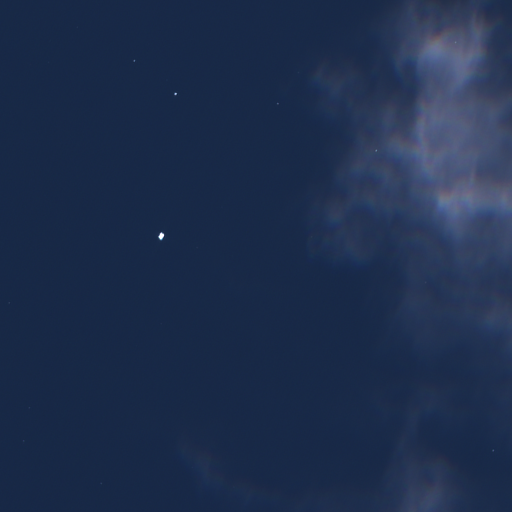Iceberg: (158, 232, 164, 240), (174, 92, 176, 95), (133, 59, 135, 61), (375, 149, 376, 151), (492, 449, 493, 451), (277, 103, 278, 104)
